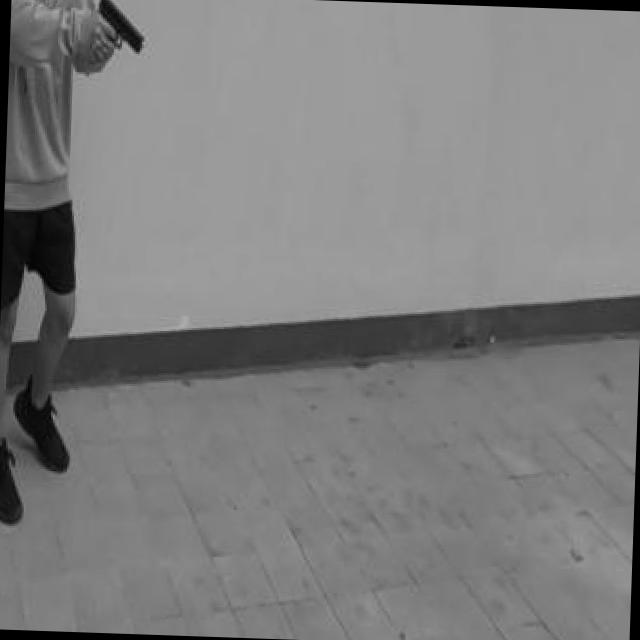Guns: (80, 0, 153, 71)
